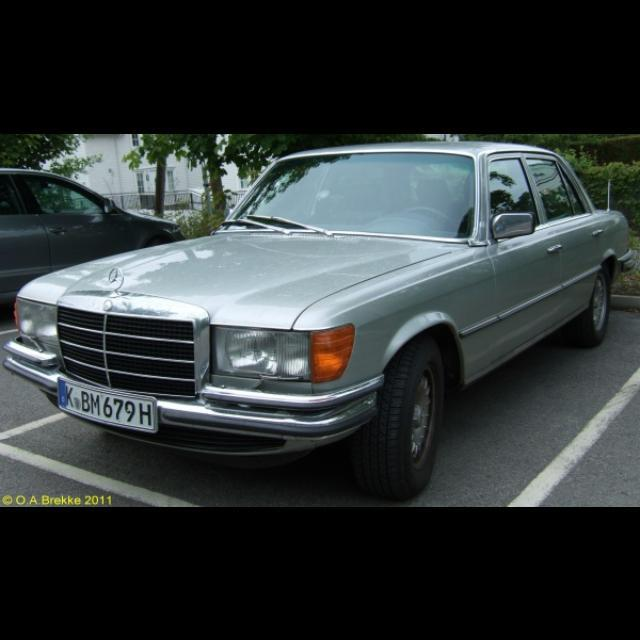license-plates: (57, 380, 158, 434)
